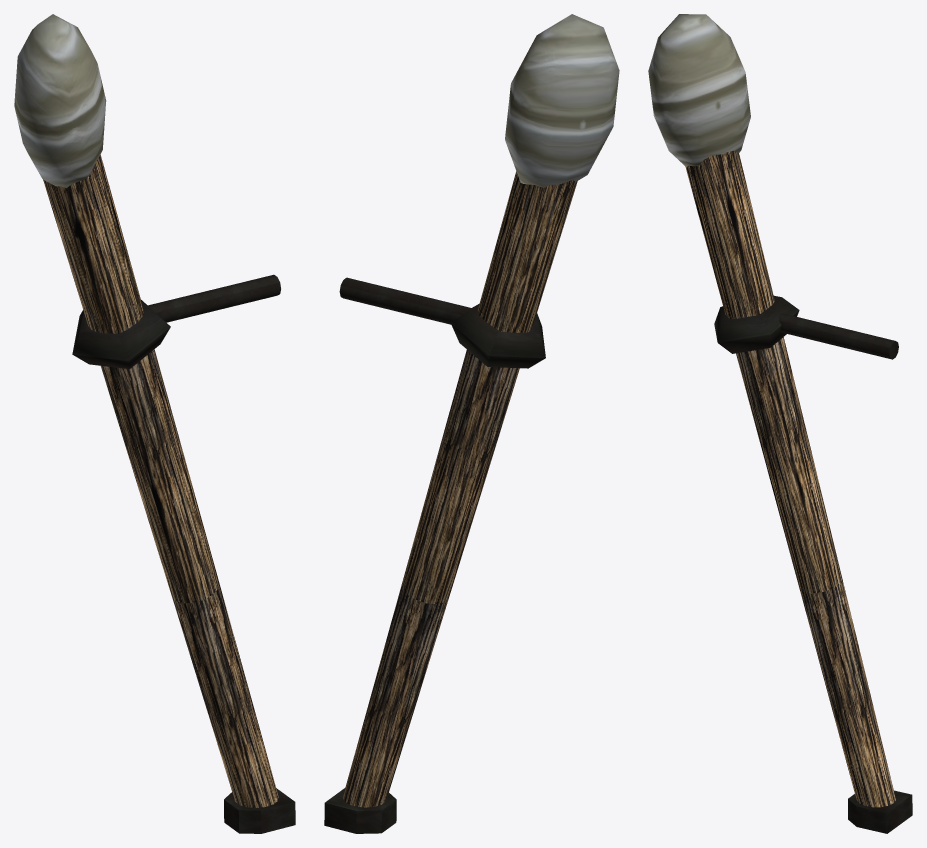
File: Torch.FBX
3 views of the same model, side by side, from view 1: azimuth 30°, elevation 25°; view 2: azimuth 150°, elevation 25°; view 3: azimuth 330°, elevation 25° (orthographic). The views are drawn at different scales.
Visible parts, largest first — view 1: Cone01, GeoSphere01, Torus01, Cylinder01, Box01; view 2: Cone01, GeoSphere01, Torus01, Cylinder01, Box01; view 3: Cone01, GeoSphere01, Torus01, Cylinder01, Box01.
Boxes of the visible parts, x1,y1,x2,y2 form: Cone01: (43,154,278,807); GeoSphere01: (14,14,106,187); Torus01: (72,300,170,368); Cylinder01: (147,274,280,322); Box01: (224,788,295,833); Cone01: (343,171,577,807); GeoSphere01: (505,14,619,187); Torus01: (451,303,545,368); Cylinder01: (339,277,470,324); Box01: (324,788,396,833); Cone01: (685,150,895,807); GeoSphere01: (648,14,750,167); Torus01: (714,295,799,353); Cylinder01: (779,313,898,359); Box01: (848,790,912,833).
Bounding box in the file's own units: 28.65 × 87.38 × 9.94.
3 materials, 3 textured.
